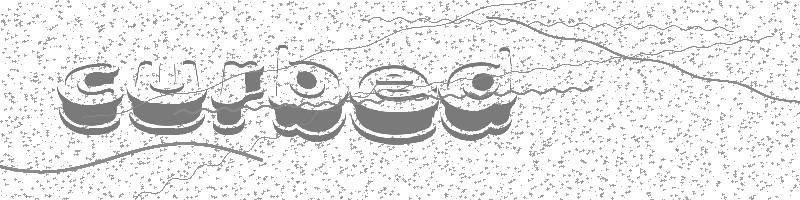b: (268, 42, 348, 142)
c: (49, 56, 126, 135)
d: (434, 44, 518, 139)
e: (348, 60, 440, 146)
r: (213, 52, 264, 136)
u: (128, 57, 210, 133)
